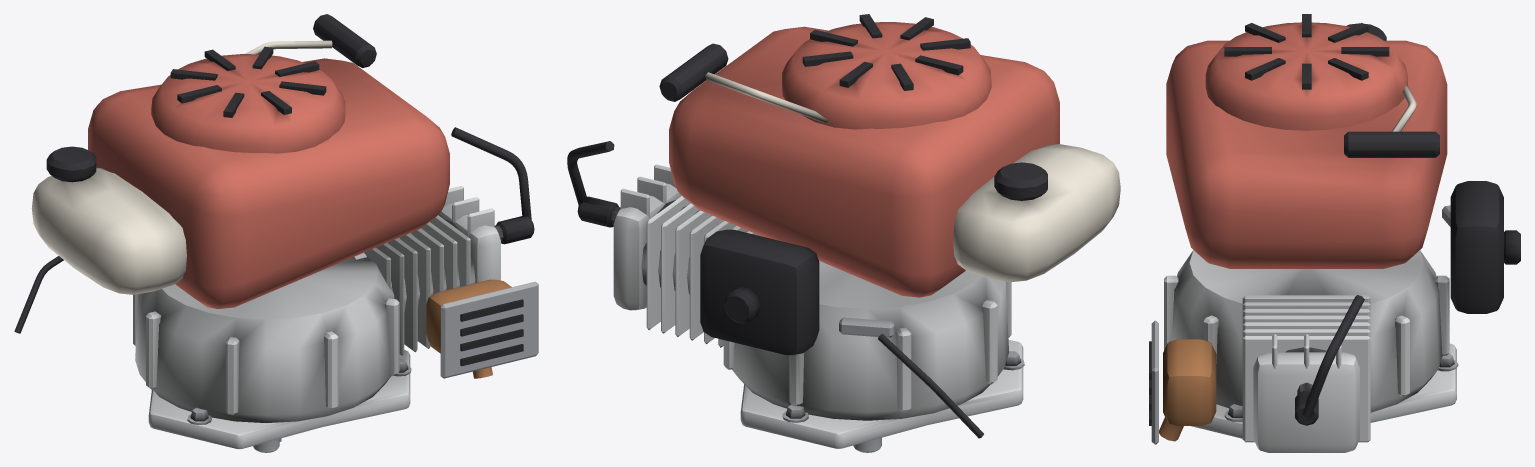
Rendered from eng_mower.glb.
3 renders of one model, left to right at view 1: azimuth 30°, elevation 25°; view 2: azimuth 150°, elevation 25°; view 3: azimuth 270°, elevation 25°, orthographic. The views are drawn at different scales.
Parts seen in each view (by area): view 1: PART; view 2: PART; view 3: PART.
Part boxes in pixels (x1=…): PART: x1=14, y1=14, x2=538, y2=452; PART: x1=567, y1=14, x2=1120, y2=452; PART: x1=1149, y1=14, x2=1520, y2=452.
Size of the model in its own units: 0.5316 by 0.402 by 0.349.
